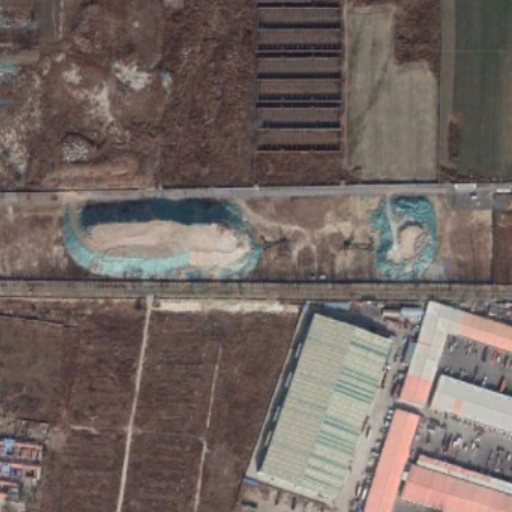cw: (61, 197, 267, 281), (363, 194, 444, 281)
